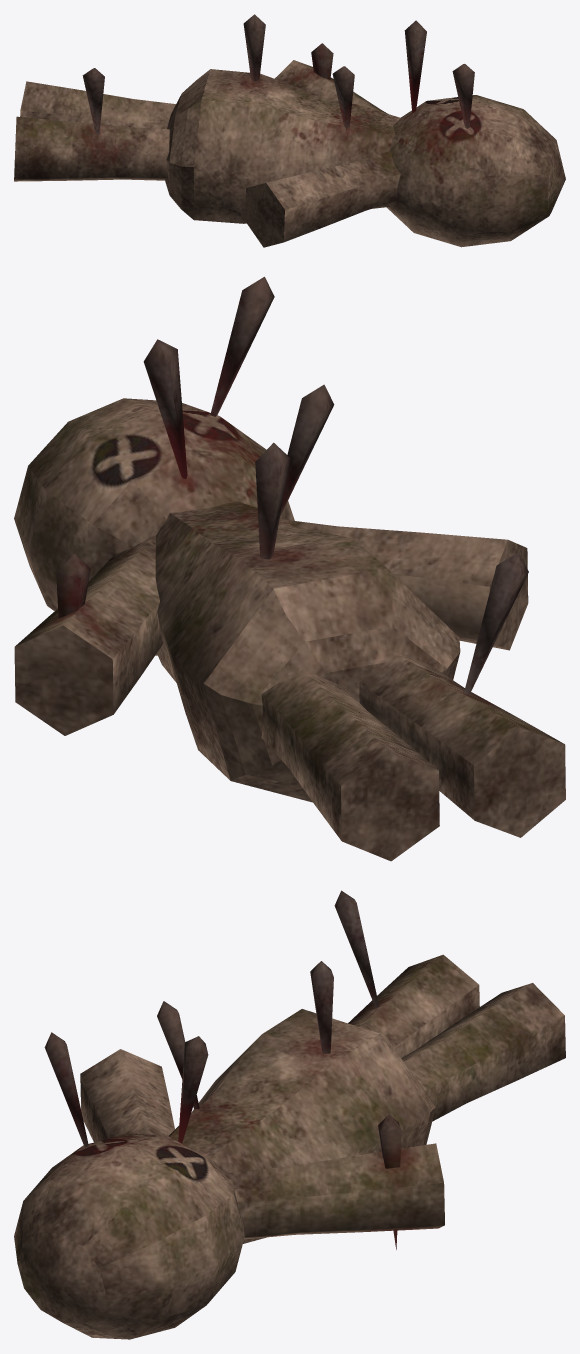
File: voodoo_doll.glb
The picture shows the model from 3 angles, top to bottom: view 1: azimuth 30°, elevation 25°; view 2: azimuth 150°, elevation 25°; view 3: azimuth 270°, elevation 25°; orthographic projection. The views are drawn at different scales.
Parts seen in each view (by area): view 1: Sphere001_Voodoo Doll_0; view 2: Sphere001_Voodoo Doll_0; view 3: Sphere001_Voodoo Doll_0.
Boxes of the visible parts, <box> form: Sphere001_Voodoo Doll_0: <box>14,14,565,247</box>; Sphere001_Voodoo Doll_0: <box>14,276,565,861</box>; Sphere001_Voodoo Doll_0: <box>14,890,565,1339</box>.
Size of the model in its own units: 12.62 by 5.8 by 10.58.
1 material, 1 textured.
